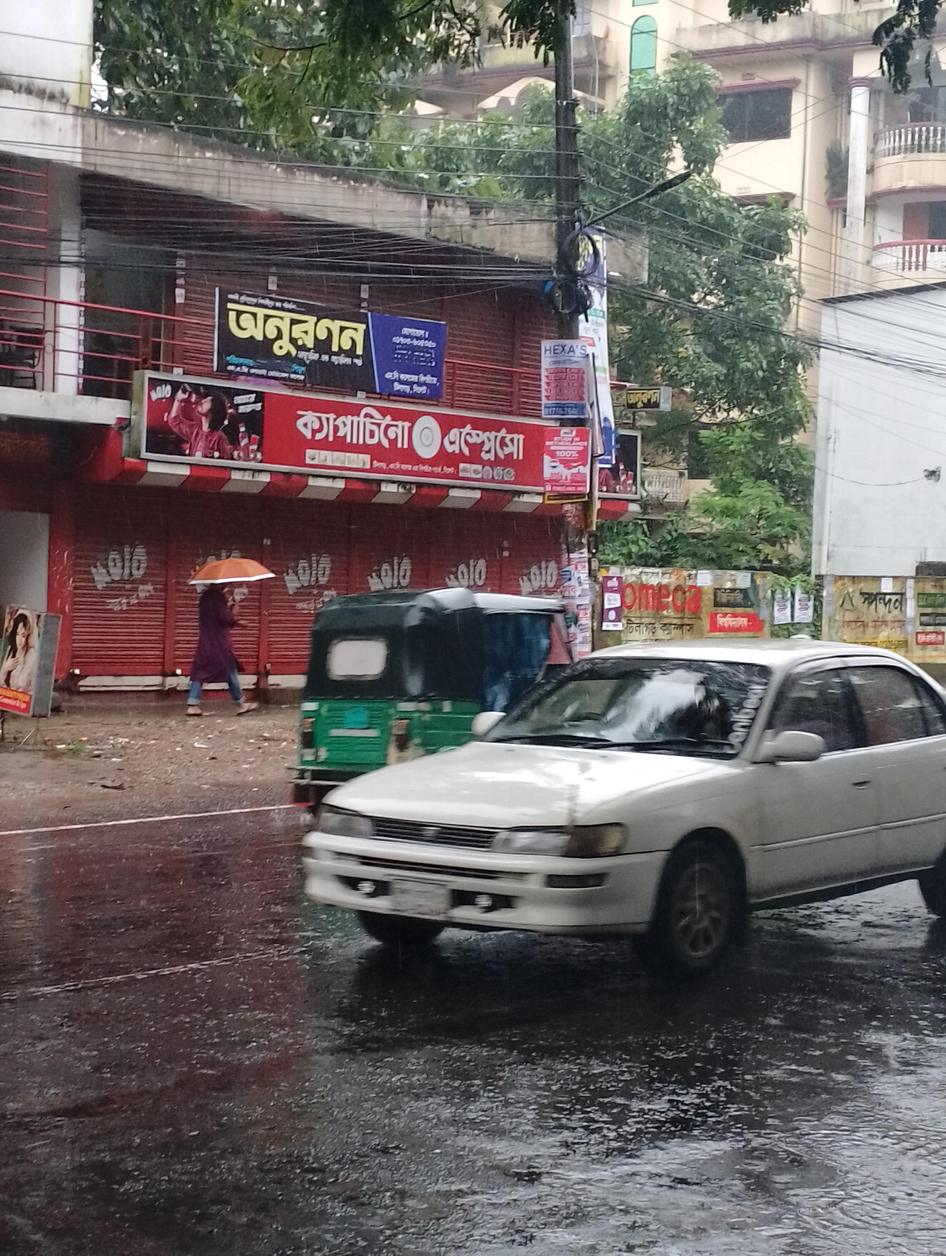Car: (205, 628, 946, 1001)
